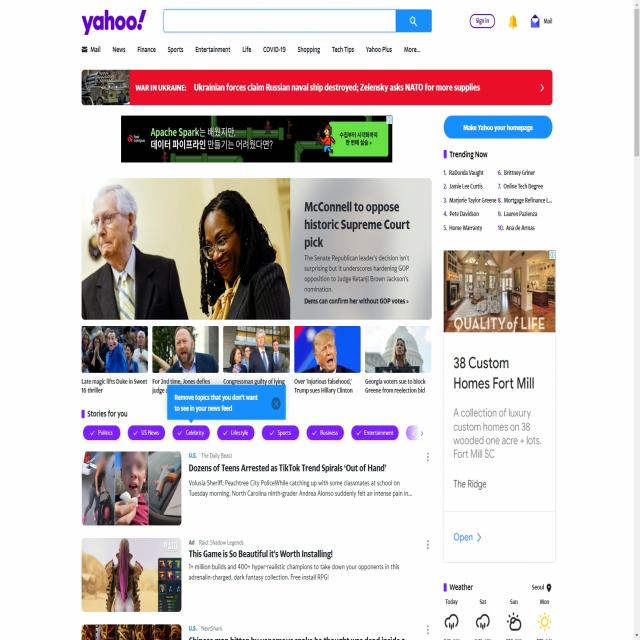menu-bar: (464, 7, 558, 34)
search: (161, 5, 434, 34)
